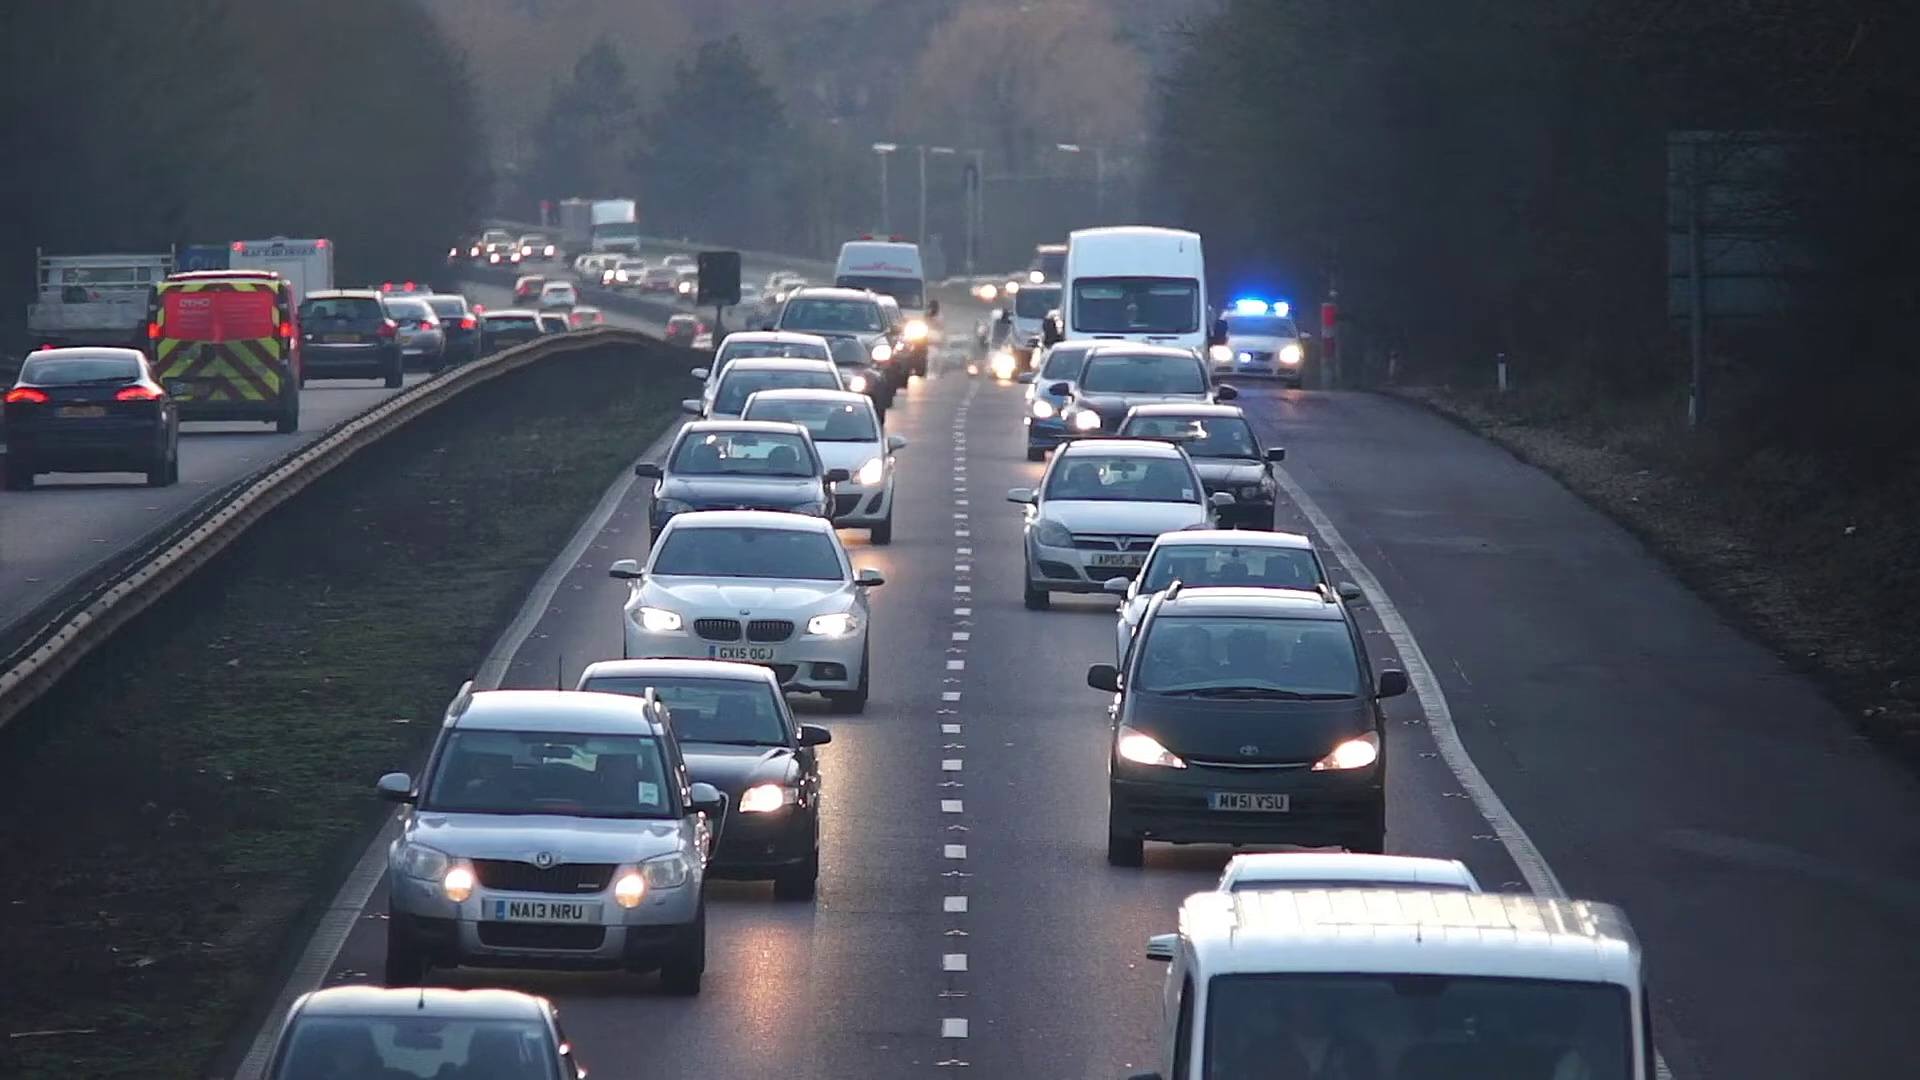license_plate: (496, 897, 593, 923), (1215, 794, 1286, 812), (712, 643, 774, 660), (1094, 553, 1141, 566)
